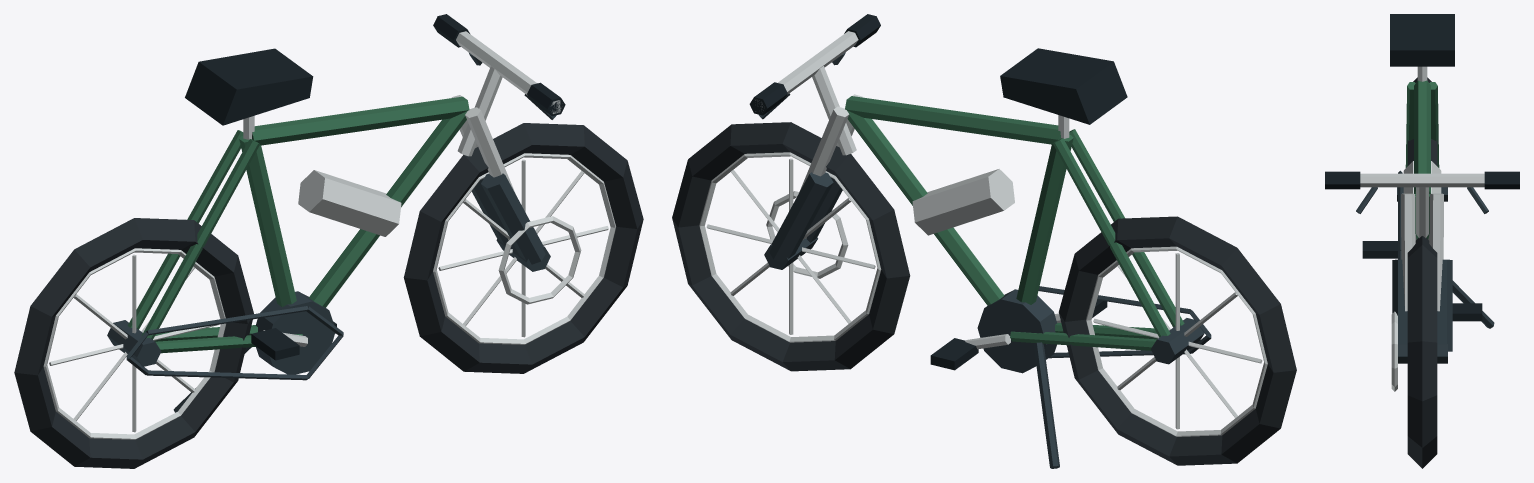
Rendered from b03_suspension_mountain_bicycle.glb.
3 renders of one model, left to right at view 1: azimuth 30°, elevation 25°; view 2: azimuth 150°, elevation 25°; view 3: azimuth 270°, elevation 25°, orthographic. The views are drawn at different scales.
Visible parts, largest first — view 1: b03_suspension_mountain_bicycle; view 2: b03_suspension_mountain_bicycle; view 3: b03_suspension_mountain_bicycle.
Part boxes in pixels (x1,y1,x2,y2): b03_suspension_mountain_bicycle: (14,14,643,468); b03_suspension_mountain_bicycle: (672,14,1296,468); b03_suspension_mountain_bicycle: (1325,14,1519,468).
Size of the model in its own units: 1.81 by 1.02 by 0.57.
